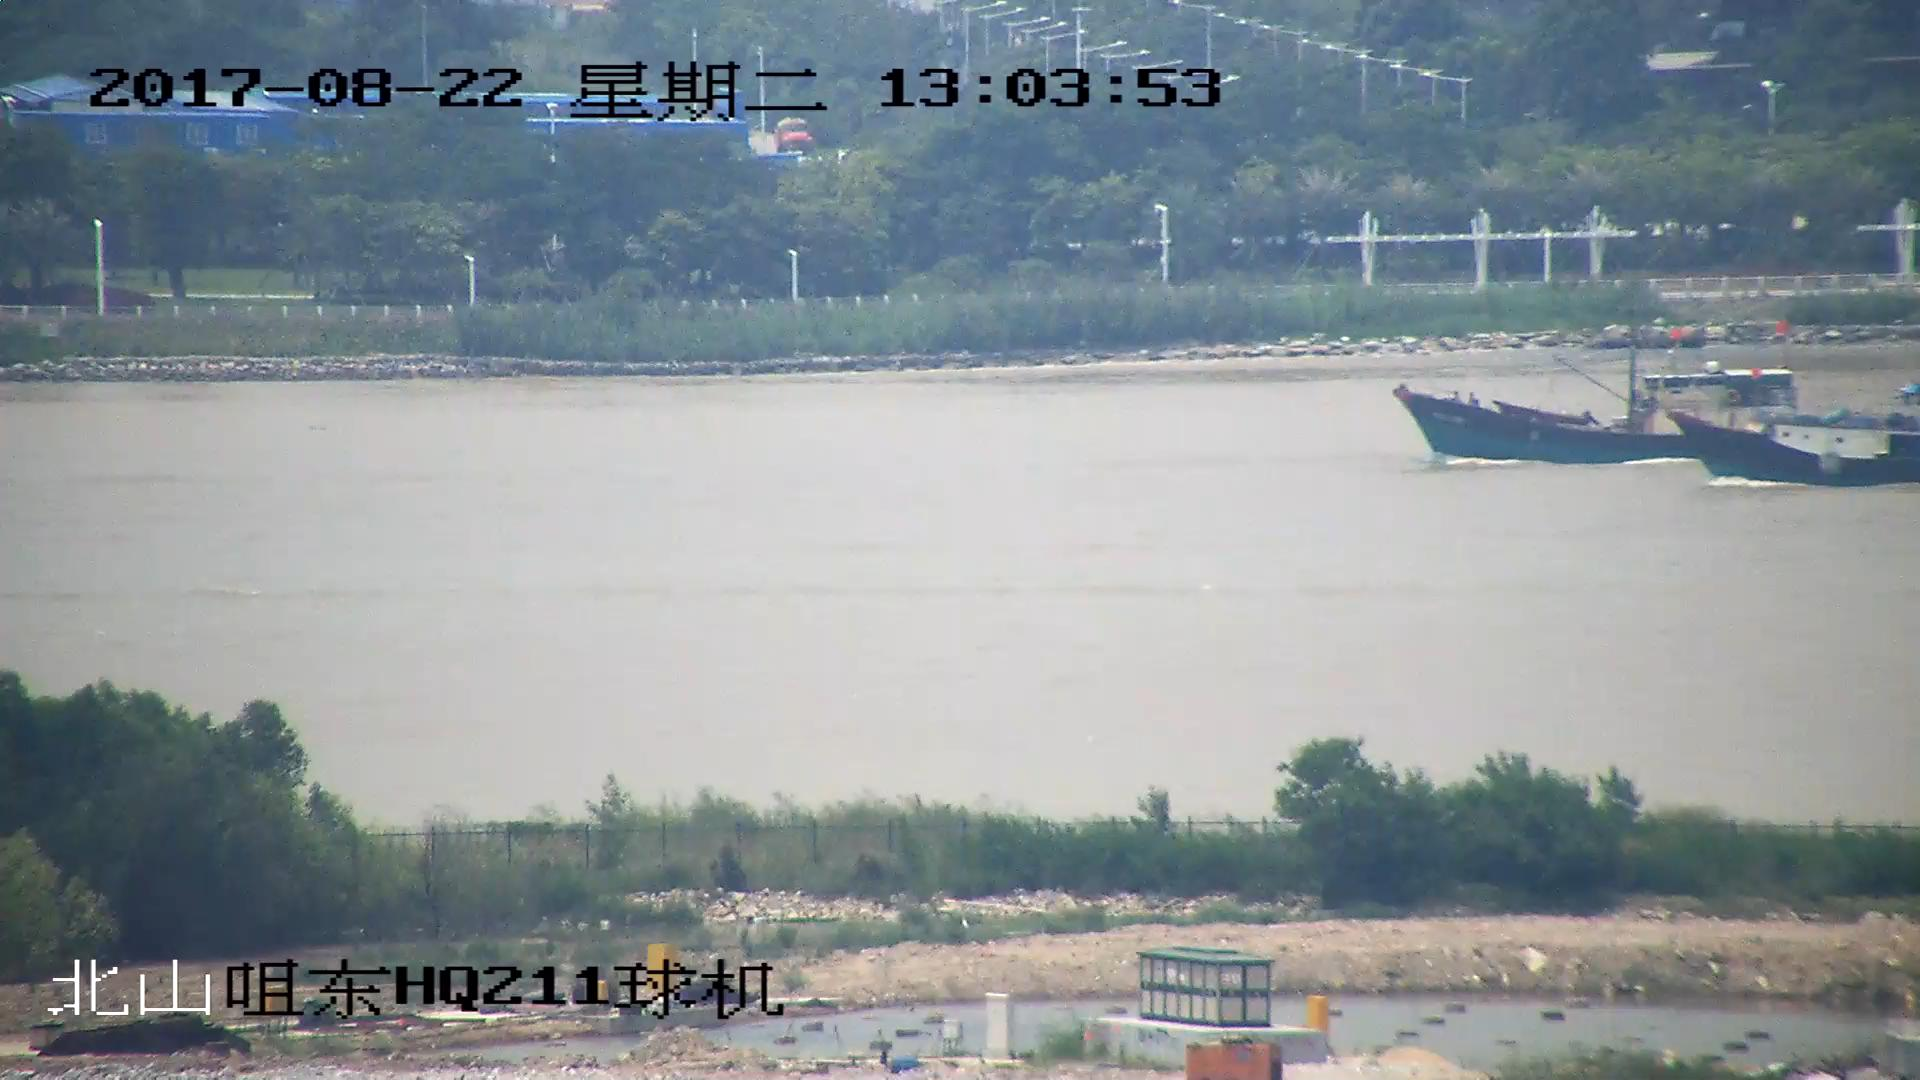fishing boat: (1389, 361, 1801, 465), (1668, 401, 1920, 485)
